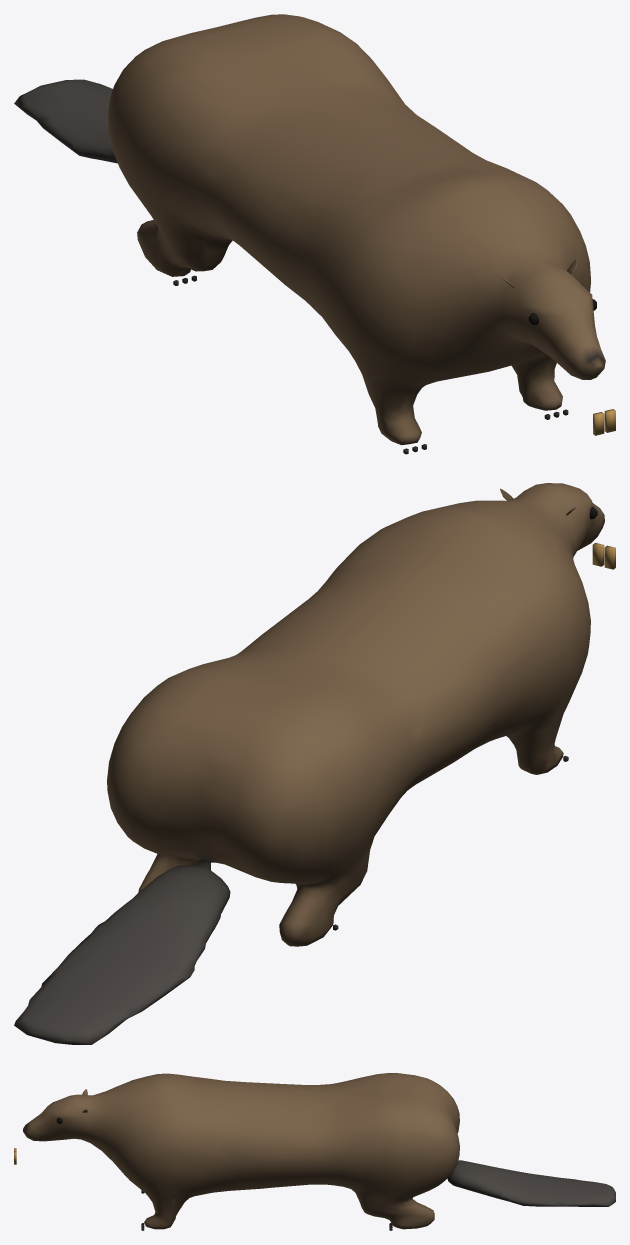
File: biber.glb
3 renders of one model, top to bottom at view 1: azimuth 30°, elevation 25°; view 2: azimuth 150°, elevation 25°; view 3: azimuth 270°, elevation 25°, orthographic. The views are drawn at different scales.
Visible parts, largest first — view 1: lack; view 2: lack; view 3: lack.
Part boxes in pixels (x1,y1,x2,y2): lack: (14, 14, 615, 454); lack: (14, 483, 615, 1044); lack: (14, 1073, 615, 1230).
Size of the model in its own units: 0.3256 by 0.312 by 1.31.
